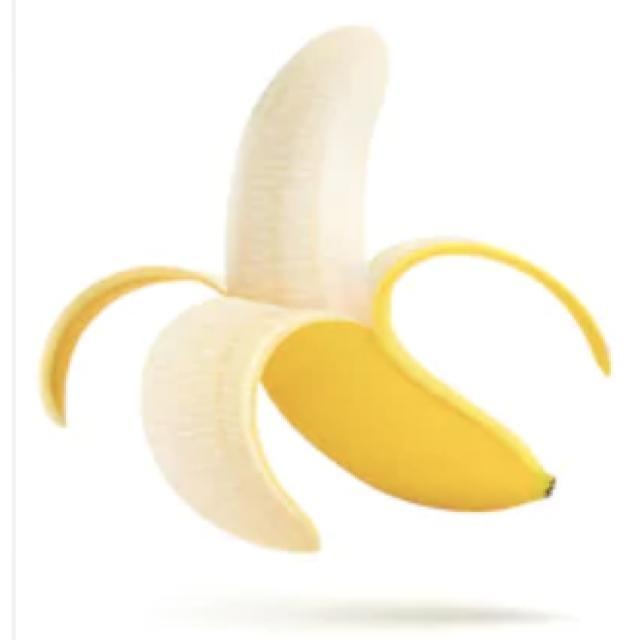Banana: (39, 23, 611, 553)
